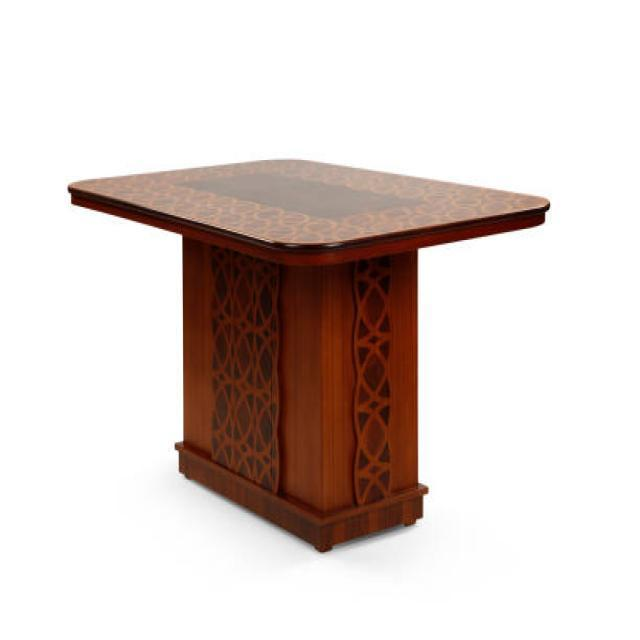table: (67, 155, 550, 552)
